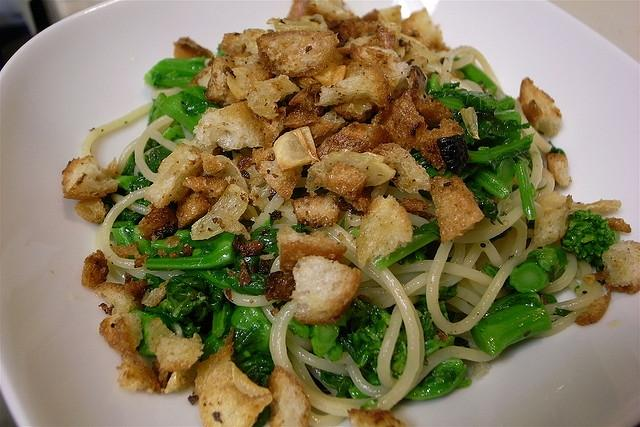broccoli: (470, 292, 552, 357), (560, 208, 620, 271), (146, 230, 237, 271), (230, 305, 274, 388), (340, 306, 392, 372), (504, 246, 570, 294), (158, 92, 202, 138), (143, 57, 208, 88), (112, 218, 155, 256), (449, 88, 516, 112), (206, 288, 230, 338), (479, 118, 533, 140), (416, 309, 438, 342), (181, 296, 206, 316)
